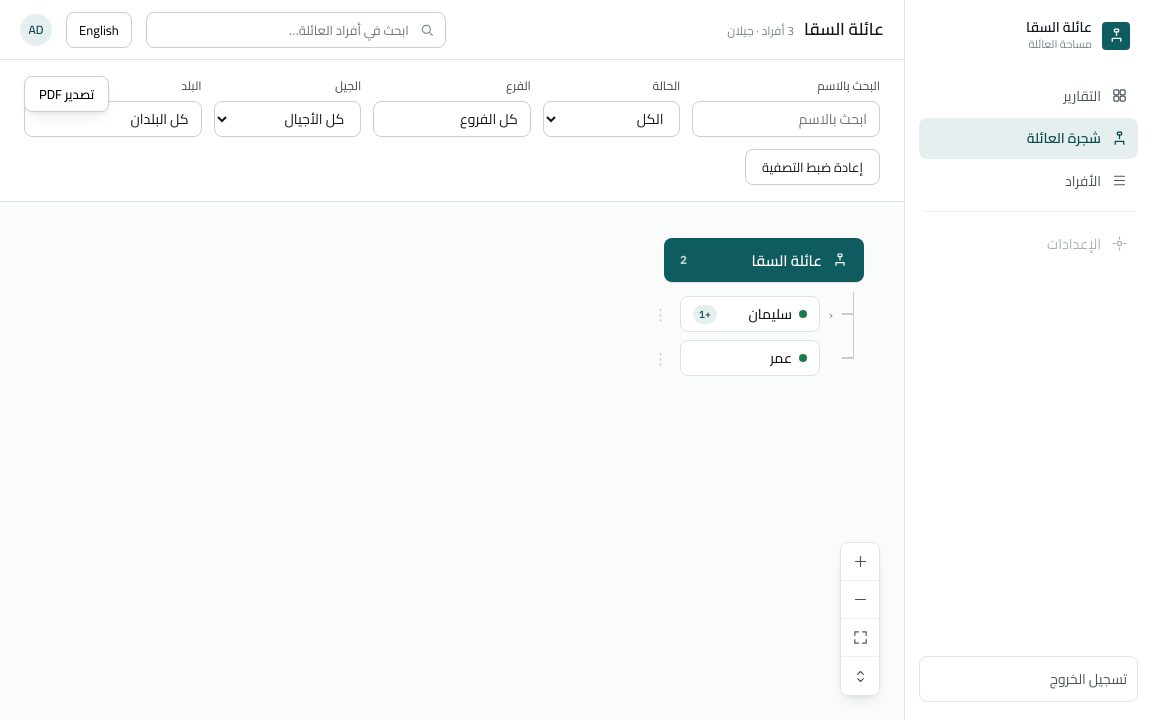
Test: TreePage › opens the detail panel when a member is selected
Click the text "سليمان" at (770, 314), box [748, 301, 792, 327]
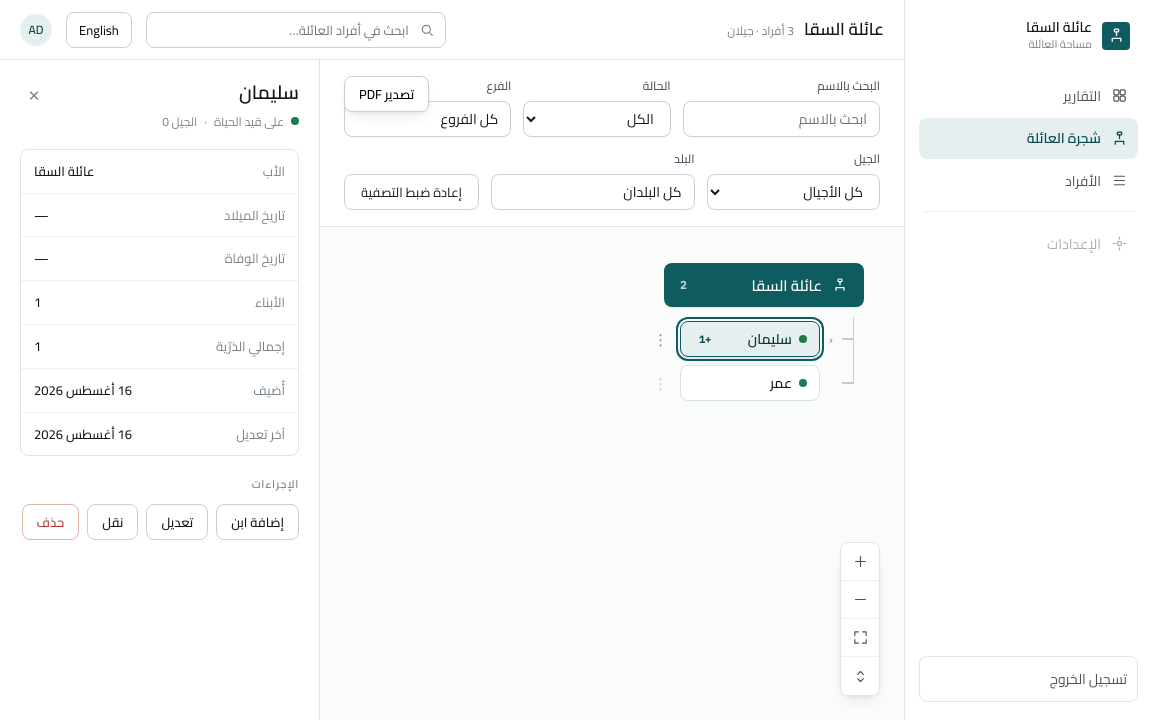
Expected: the text "إجمالي الذرّية" is shown, [216, 336, 285, 357]
